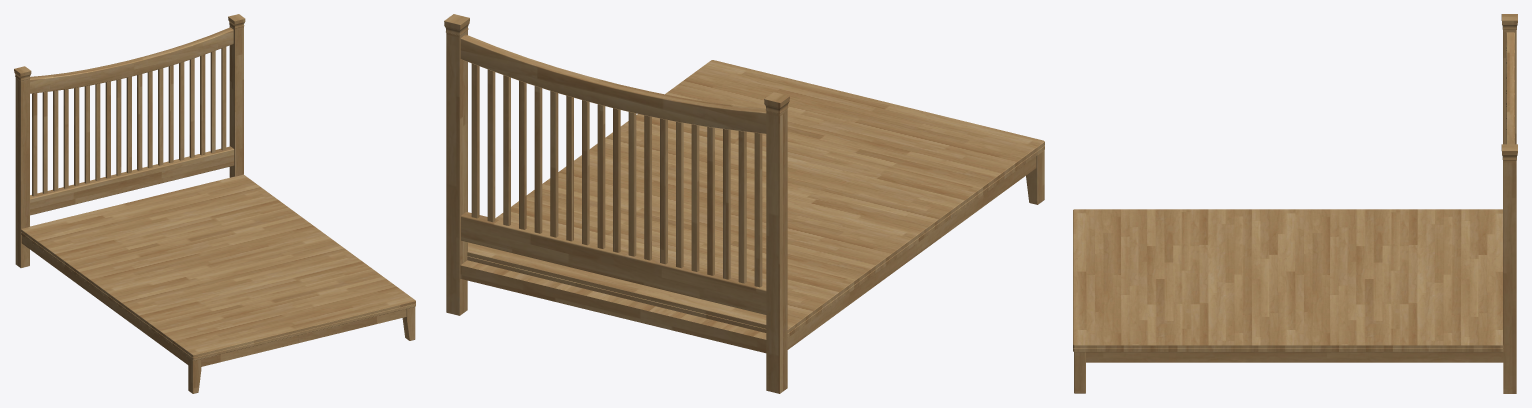
3 views of the same model, side by side, from view 1: azimuth 30°, elevation 25°; view 2: azimuth 150°, elevation 25°; view 3: azimuth 270°, elevation 25° (orthographic). The views are drawn at different scales.
Parts seen in each view (by area): view 1: 6642355; view 2: 6642355; view 3: 6642355.
Boxes of the visible parts, <box> form: 6642355: <box>14,14,415,393</box>; 6642355: <box>444,14,1044,393</box>; 6642355: <box>1073,14,1517,393</box>.
Size of what is drawn, in the model's own units: 1.63 by 1.35 by 2.23.
1 material, 1 textured.
